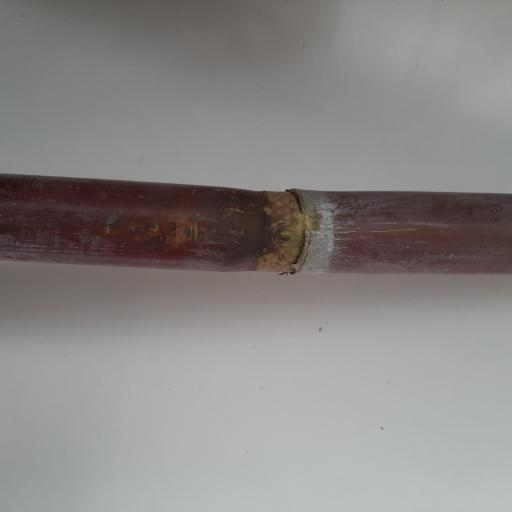Bud: (271, 223, 300, 246)
